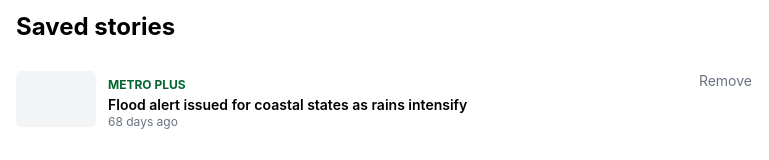
SavedPage › lists saved stories and lets the reader remove one
Expected: the link "Flood alert issued for coastal states as rains intensify" is shown, [108,96,467,113]
Click the button with aria-label "remove flood alert": {"x": 725, "y": 81} [699,59,752,103]
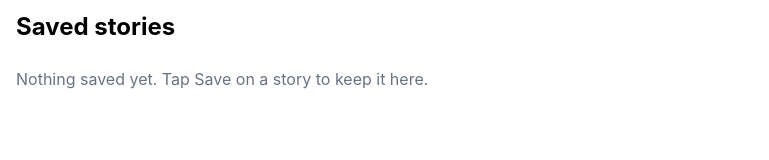
Expected: the text "Nothing saved yet. Tap Save on a story to keep it here." is shown, [16,69,428,89]
